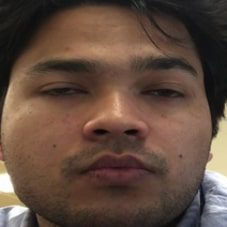drowsy: (28, 42, 208, 197)
